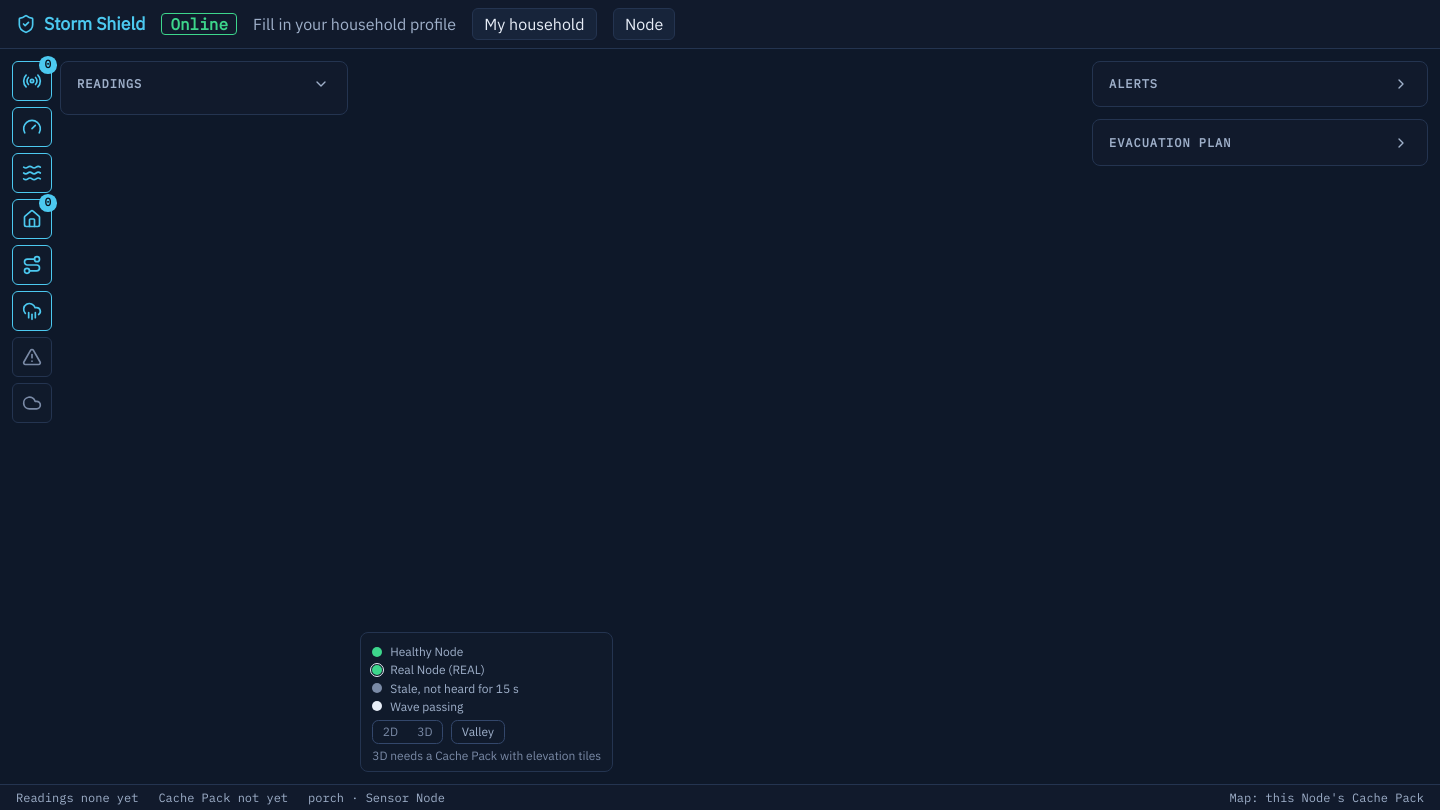
Test: signing up posts to the Node and the panel walks through the three states
Click the button "Node" at [644, 24], box [613,8,675,40]
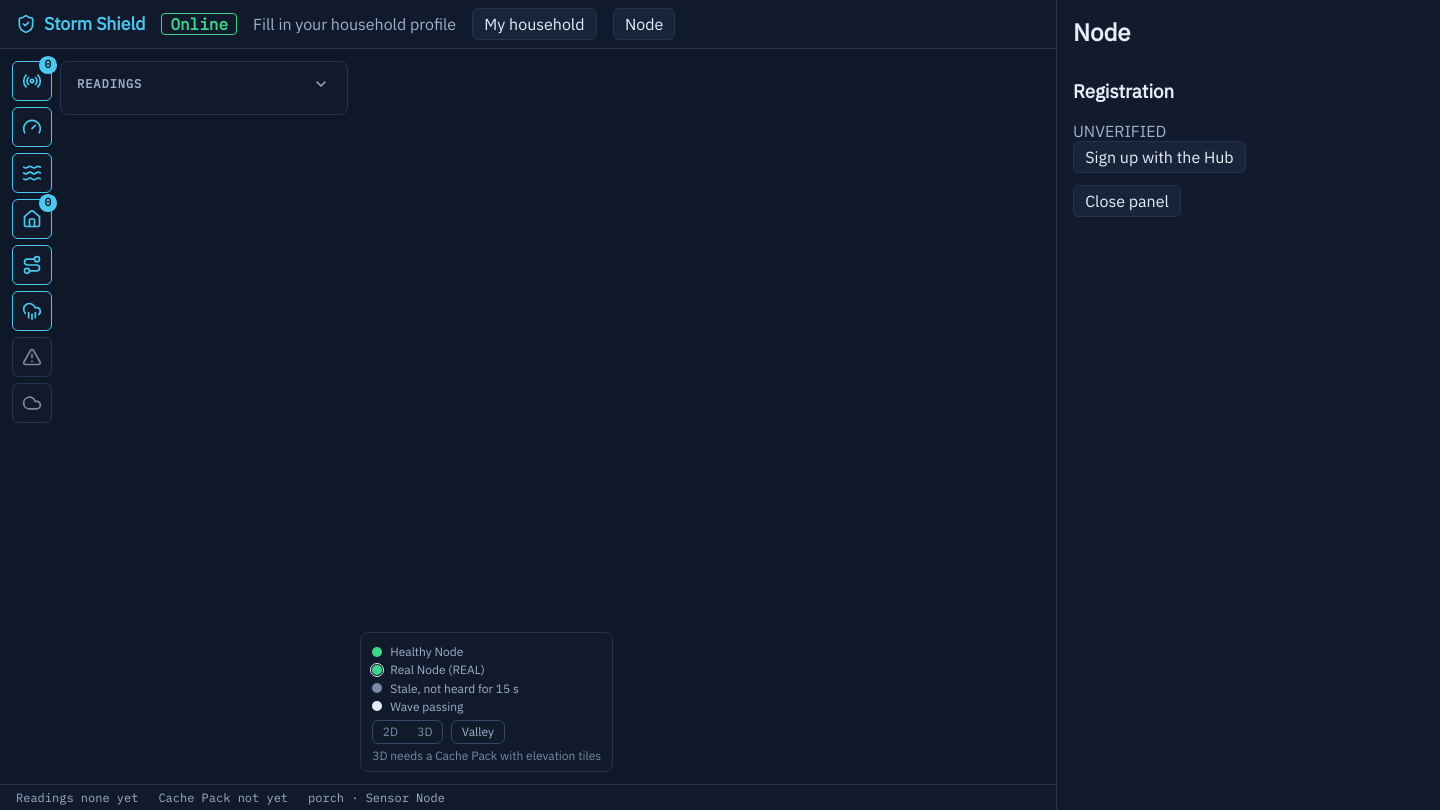
Now the text "UNVERIFIED" is shown, box [1073,121,1166,141]
Click the button "Sign up with the Hub" at [1159, 157], box [1073,141,1246,173]
Wait 1500 ms
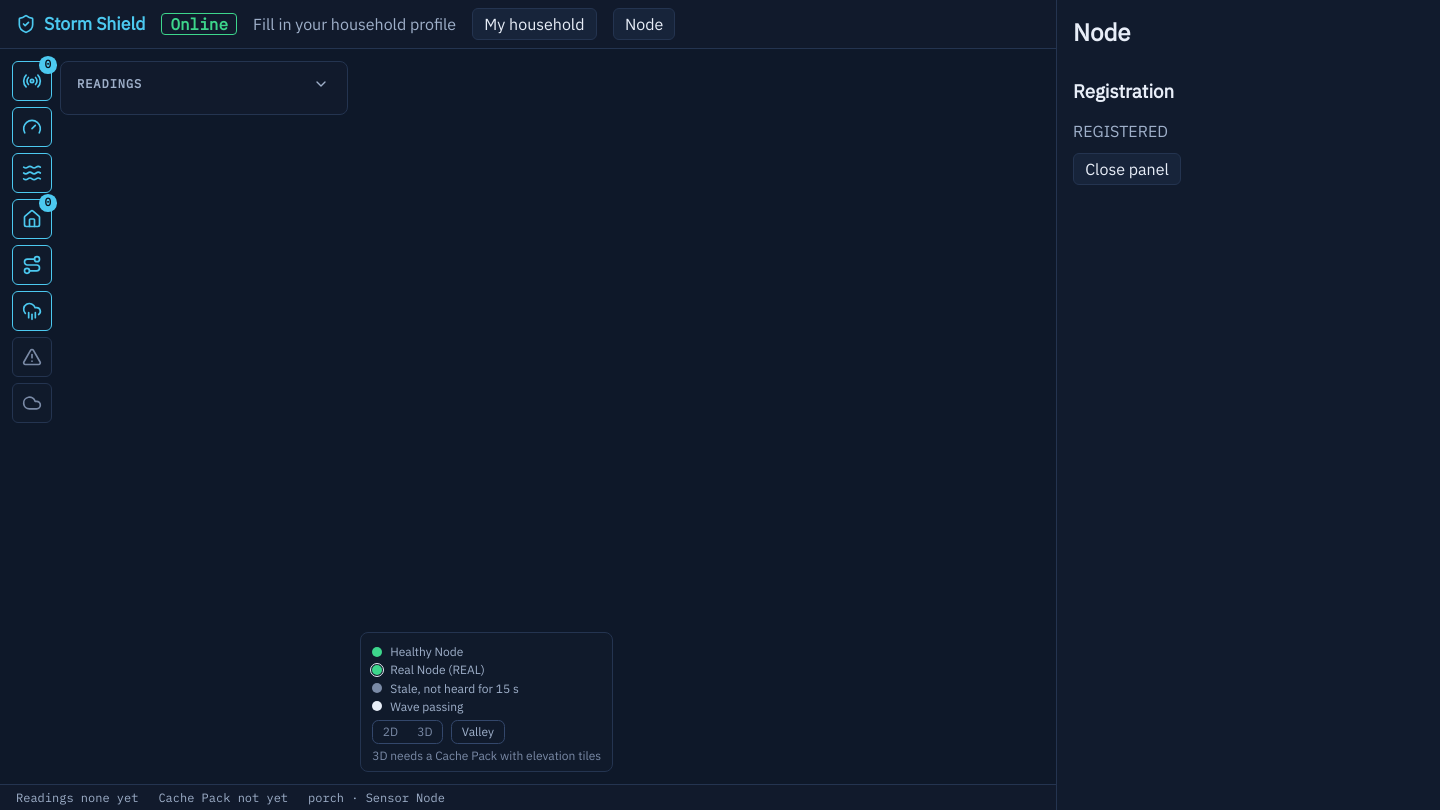
Now the button "Sign up with the Hub" is gone
Now the text "REGISTERED" is shown, box [1073,121,1168,141]
